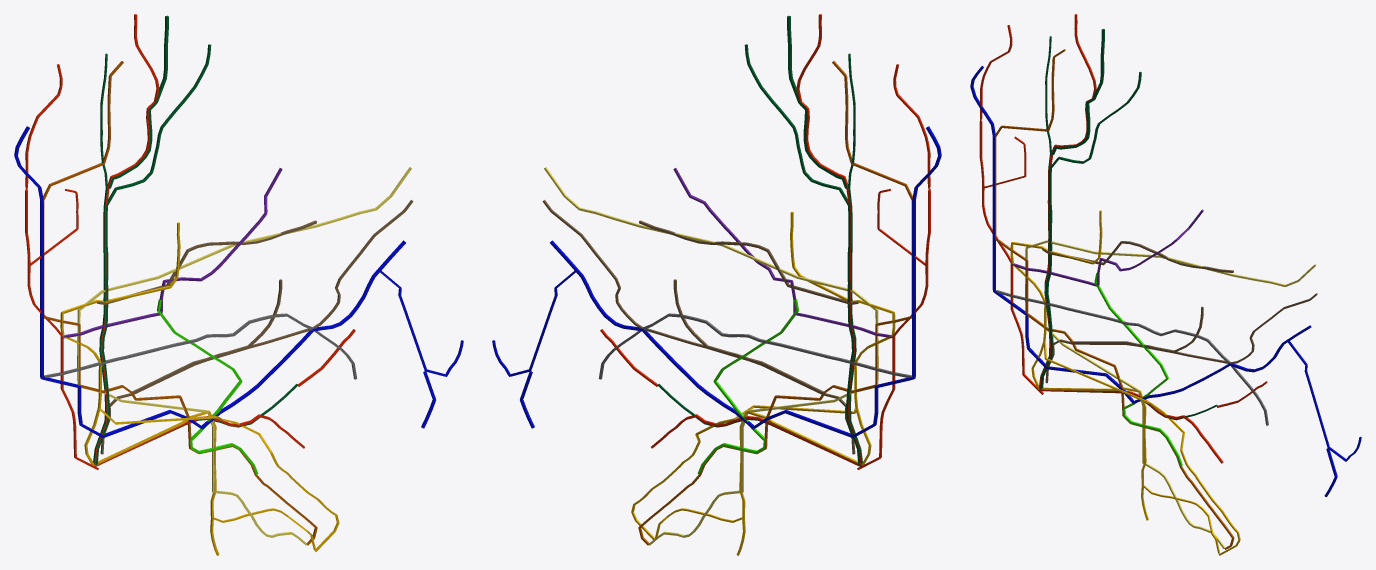
The model's file is MTA22.glb.
3 views of the same model, side by side, from view 1: azimuth 30°, elevation 25°; view 2: azimuth 150°, elevation 25°; view 3: azimuth 330°, elevation 25° (orthographic). The views are drawn at different scales.
Parts seen in each view (by area): view 1: A, F, R, B, 5, 123, 4B.001, L, 4, JZ, 7, Q (+5 smaller); view 2: A, F, B, R, 5, 123, 4B.001, L, 4, JZ, 7, G (+5 smaller); view 3: A, B, F, R, 5, 123, 4B.001, L, Q, G, JZ, 4 (+5 smaller).
Boxes of the visible parts, x1,y1,x2,y2 form: A: (14,126,405,437); F: (77,167,411,545); R: (60,222,219,555); B: (43,61,317,545); 5: (94,14,304,466); 123: (25,64,98,469); 4B.001: (96,44,211,464); L: (43,313,357,379); 4: (93,53,298,463); JZ: (100,200,413,454); 7: (63,168,282,338); Q: (100,408,339,551); A: (550,126,941,437); F: (544,167,878,545); B: (638,61,912,545); R: (736,211,895,555); 5: (651,14,861,466); 123: (857,64,930,469); 4B.001: (744,44,859,464); L: (598,313,912,379); 4: (657,53,862,463); JZ: (542,200,855,454); 7: (673,168,892,338); G: (697,299,798,474); A: (970,66,1311,403); B: (994,49,1234,549); F: (1025,240,1316,548); R: (1010,210,1148,520); 5: (1039,14,1223,463); 123: (979,25,1043,394); 4B.001: (1040,71,1141,389); L: (996,290,1268,425); Q: (1043,342,1240,555); G: (1094,273,1182,466); JZ: (1045,293,1317,383); 4: (1039,36,1217,420).
Bounding box in the file's own units: 32.94 × 40.28 × 1.1.
